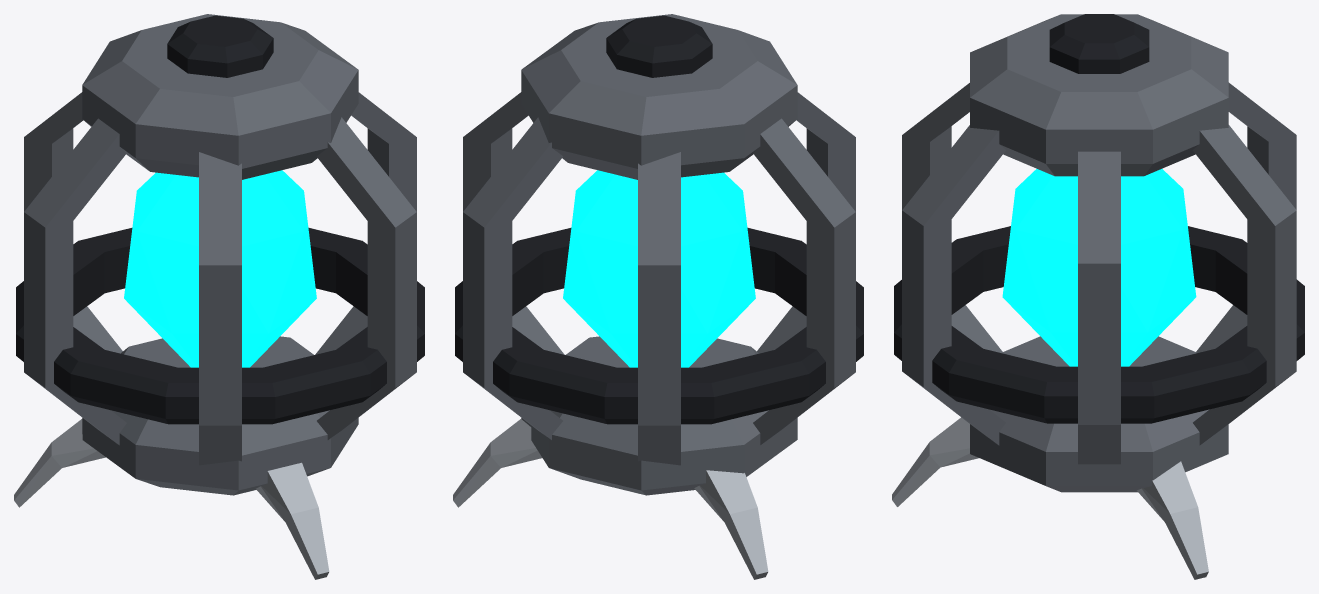
The model's file is ElectricShock.fbx.
3 renders of one model, left to right at view 1: azimuth 30°, elevation 25°; view 2: azimuth 150°, elevation 25°; view 3: azimuth 270°, elevation 25°, orthographic.
Visible parts, largest first — view 1: Cage, Belt, Core_Energy, Prongs, Node; view 2: Cage, Belt, Core_Energy, Prongs, Node; view 3: Cage, Belt, Core_Energy, Prongs, Node.
Part boxes in pixels (box(x1,y1,x2,y2)): Cage: box(24, 14, 416, 495); Belt: box(16, 227, 424, 424); Core_Energy: box(124, 170, 316, 367); Prongs: box(14, 419, 329, 579); Node: box(167, 15, 273, 77); Cage: box(463, 14, 855, 495); Belt: box(455, 227, 863, 424); Core_Energy: box(563, 170, 755, 367); Prongs: box(453, 419, 768, 579); Node: box(606, 15, 712, 77); Cage: box(902, 14, 1296, 492); Belt: box(894, 226, 1304, 423); Core_Energy: box(1002, 169, 1196, 366); Prongs: box(892, 417, 1208, 579); Node: box(1049, 14, 1149, 73).
Bounding box in the file's own units: 0.32 × 0.39 × 0.3066.
